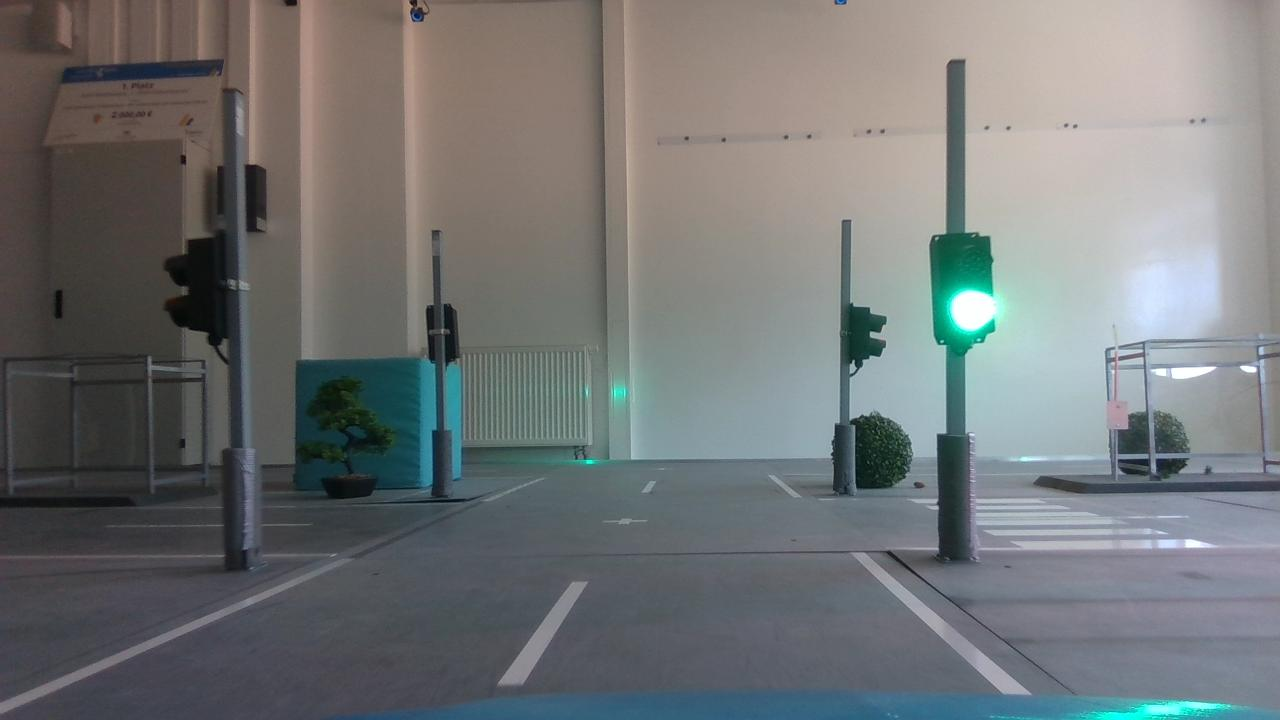traffic_light_green: (925, 229, 1002, 354)
